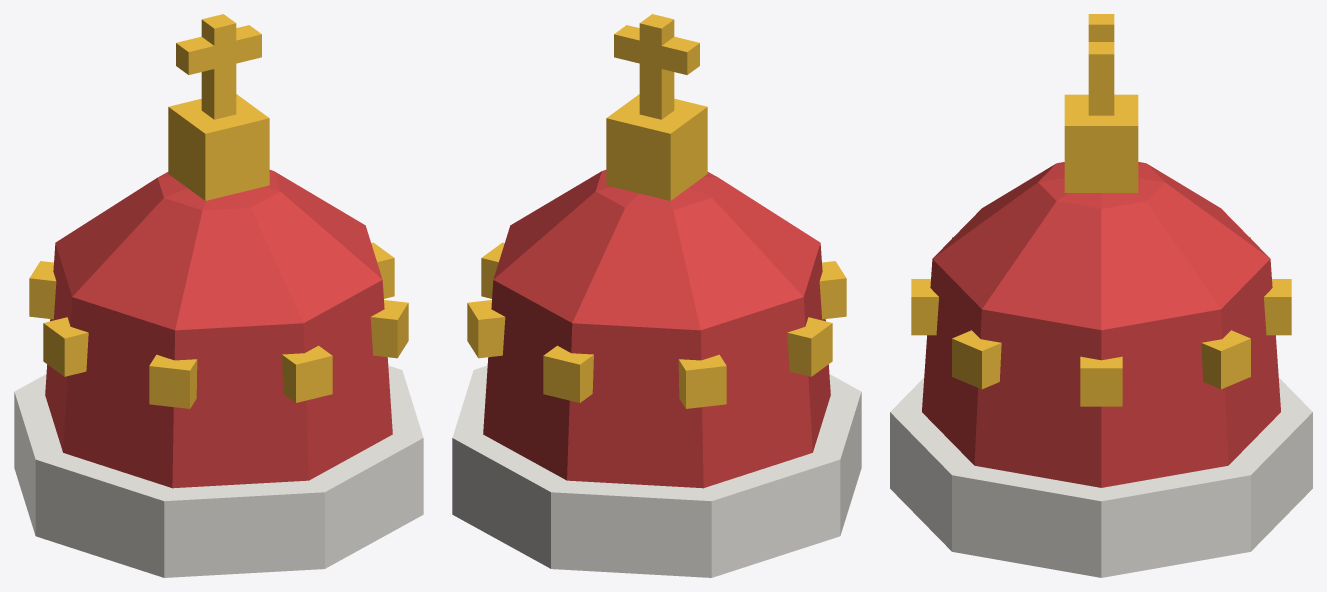
File: RoyalCrown.fbx
The picture shows the model from 3 angles, left to right: view 1: azimuth 30°, elevation 25°; view 2: azimuth 150°, elevation 25°; view 3: azimuth 270°, elevation 25°; orthographic projection.
Visible parts, largest first — view 1: RoyalCrown; view 2: RoyalCrown; view 3: RoyalCrown.
Boxes of the visible parts, bbox=[...] form: RoyalCrown: bbox=[14, 14, 423, 577]; RoyalCrown: bbox=[452, 14, 861, 577]; RoyalCrown: bbox=[890, 14, 1312, 577].
Bounding box in the file's own units: 2 × 2.45 × 2.
Materials: 1 (1 with a texture image).
